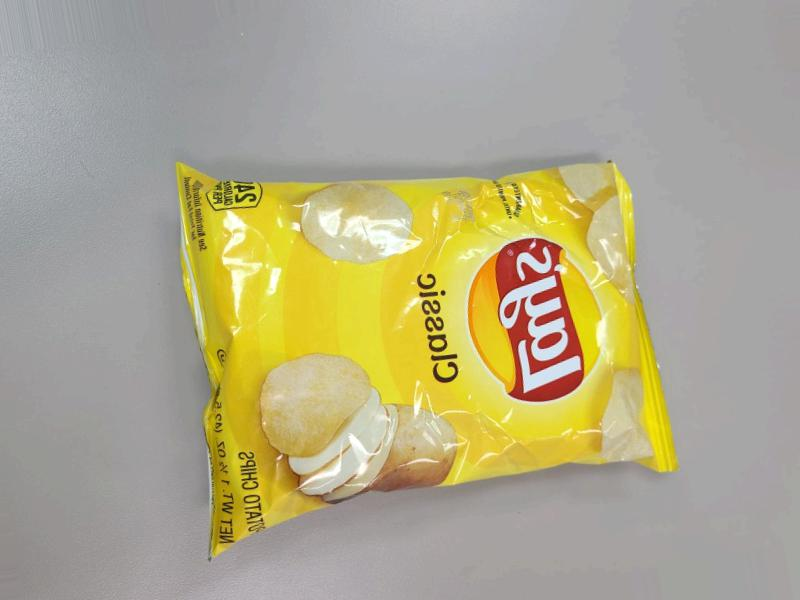lays: (312, 186, 732, 600)
